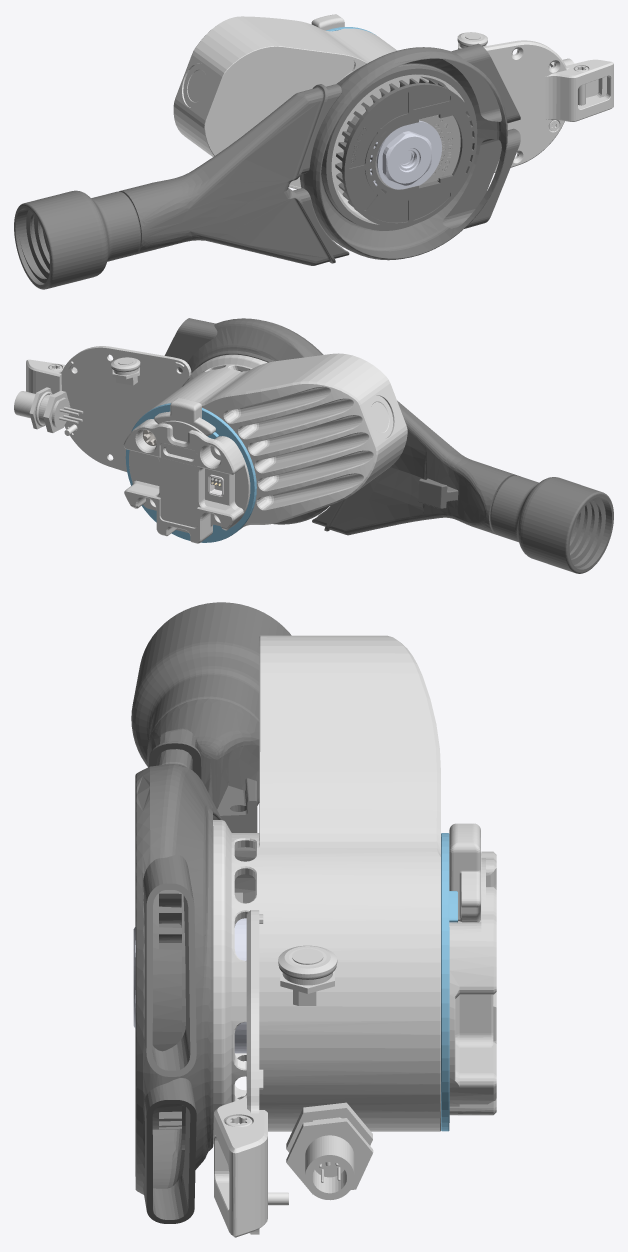
File: sanding_kit.glb
3 views of the same model, one above another, from view 1: azimuth 30°, elevation 25°; view 2: azimuth 150°, elevation 25°; view 3: azimuth 270°, elevation 25° (orthographic). The views are drawn at different scales.
Parts seen in each view (by area): view 1: sanding_kit; view 2: sanding_kit; view 3: sanding_kit.
Boxes of the visible parts, left/top/right/bottom form: sanding_kit: left=14, top=14, right=613, bottom=289; sanding_kit: left=14, top=318, right=613, bottom=573; sanding_kit: left=131, top=602, right=496, bottom=1237.
Bounding box in the file's own units: 0.0031 × 0.0011 × 0.000868.
